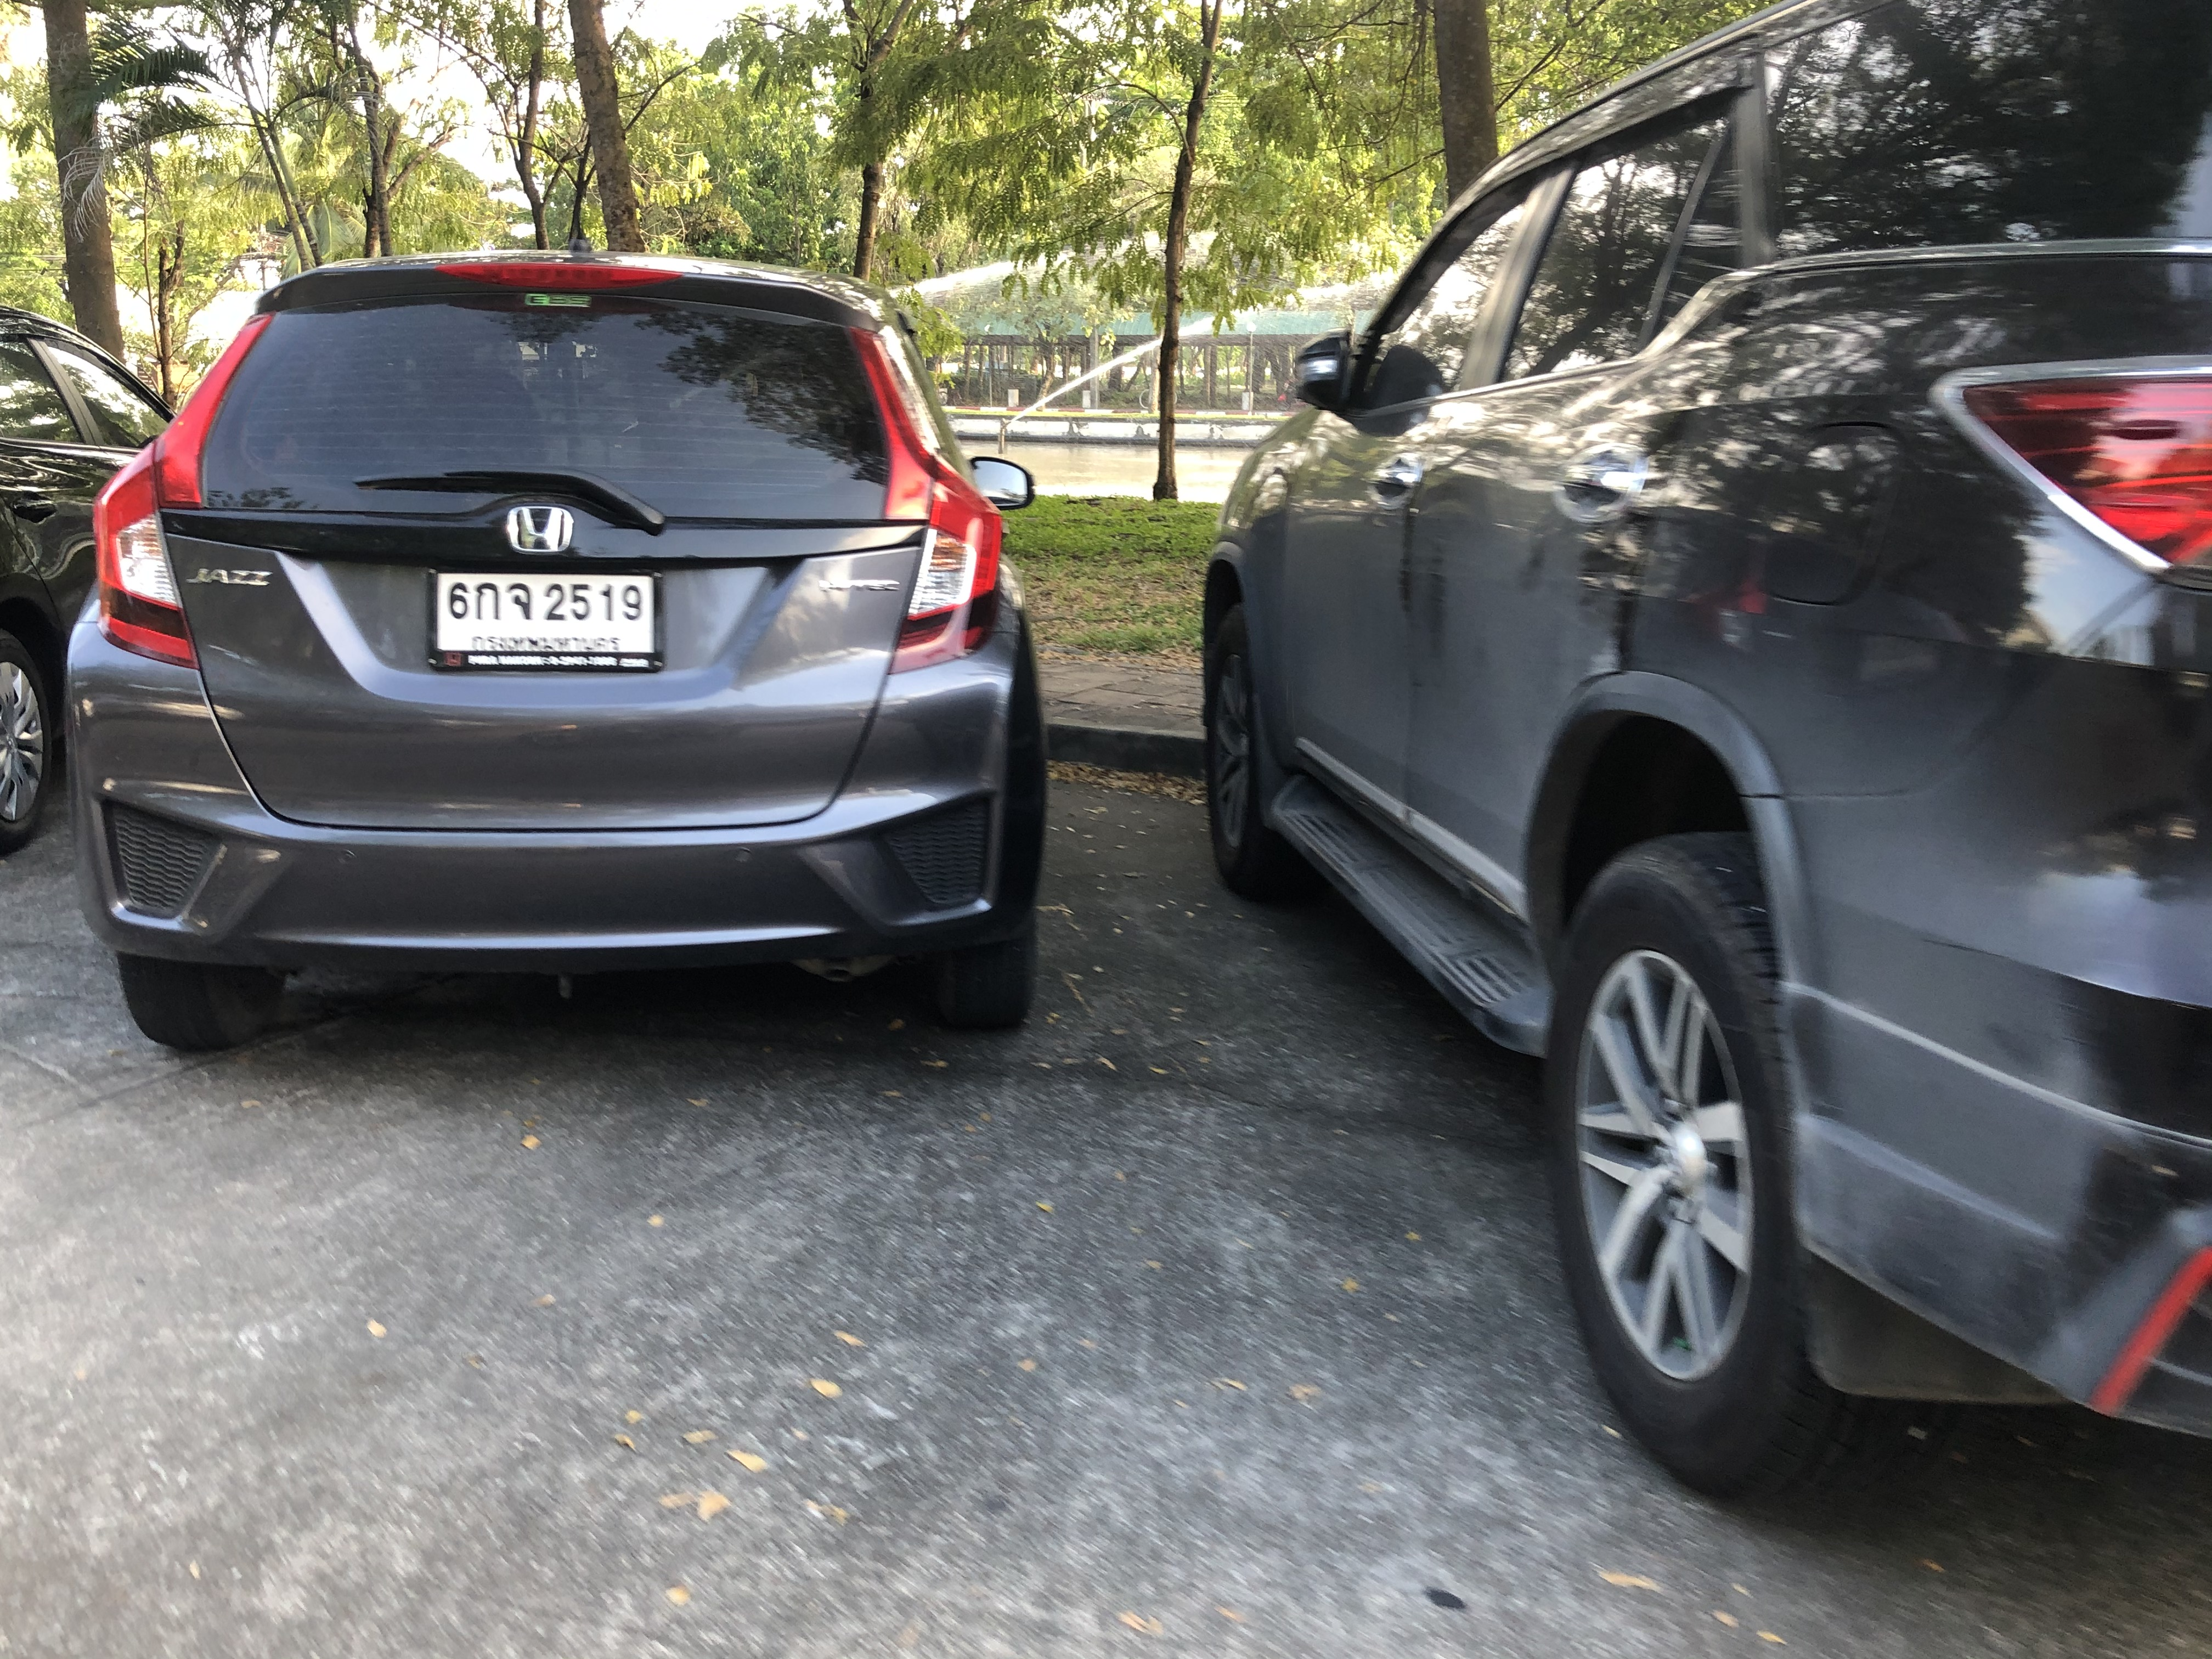in: (441, 575, 650, 657)
out: (425, 559, 672, 676)
